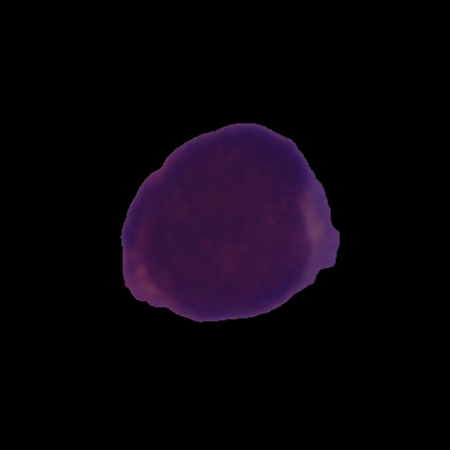ALL: (118, 119, 343, 325)
